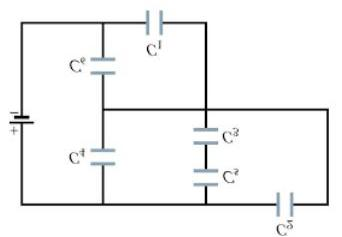Capacitor: (131, 3, 172, 37)
